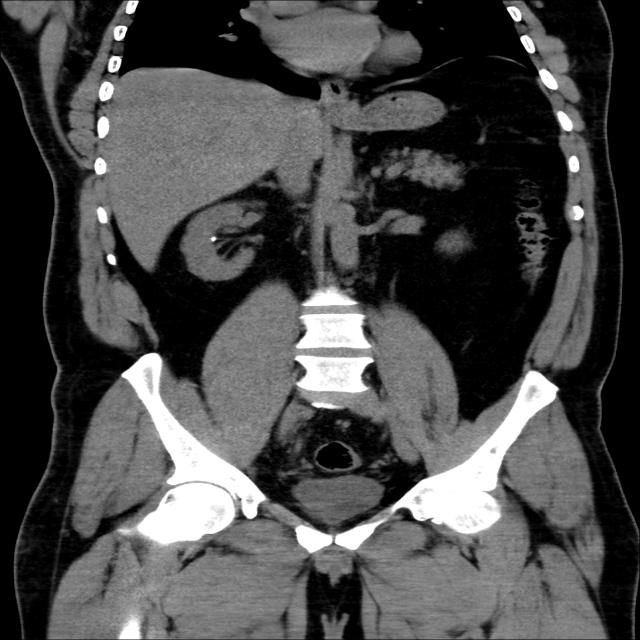kidneystone: (210, 236, 217, 242)
